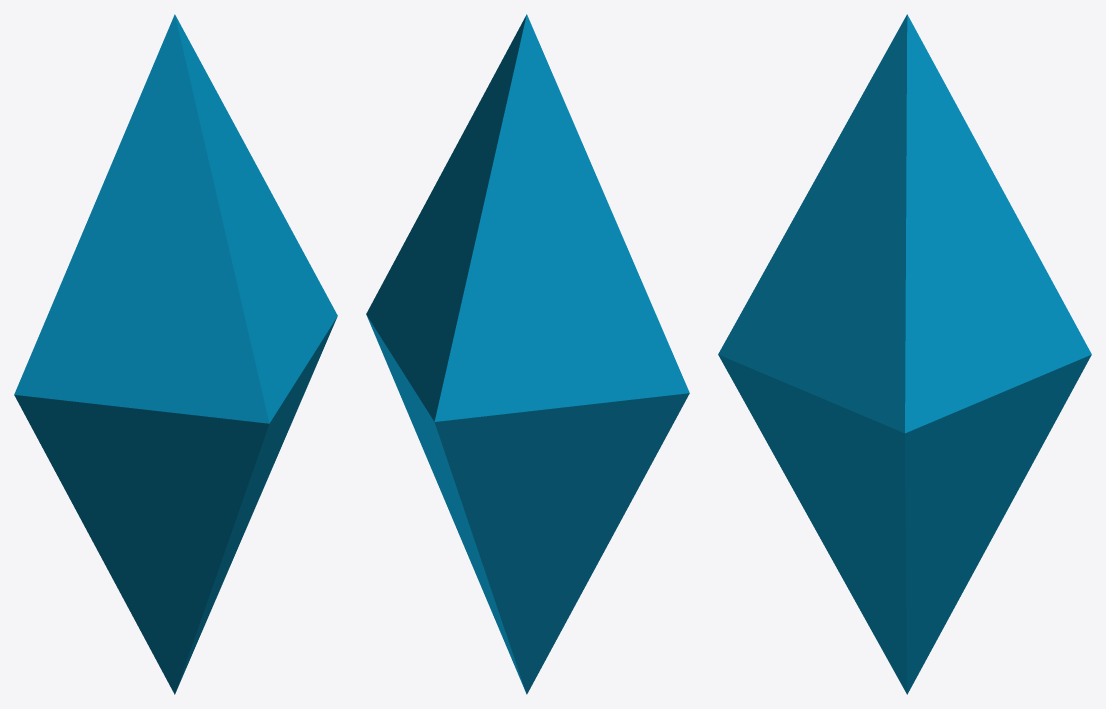
The model's file is aura_shard.dae.
3 renders of one model, left to right at view 1: azimuth 30°, elevation 25°; view 2: azimuth 150°, elevation 25°; view 3: azimuth 270°, elevation 25°, orthographic.
Parts seen in each view (by area): view 1: aura_shard; view 2: aura_shard; view 3: aura_shard.
Boxes of the visible parts, x1,y1,x2,y2 form: aura_shard: (14,14,337,694); aura_shard: (366,14,689,694); aura_shard: (718,14,1091,694).
Bounding box in the file's own units: 1.45 × 1.45 × 2.91.
